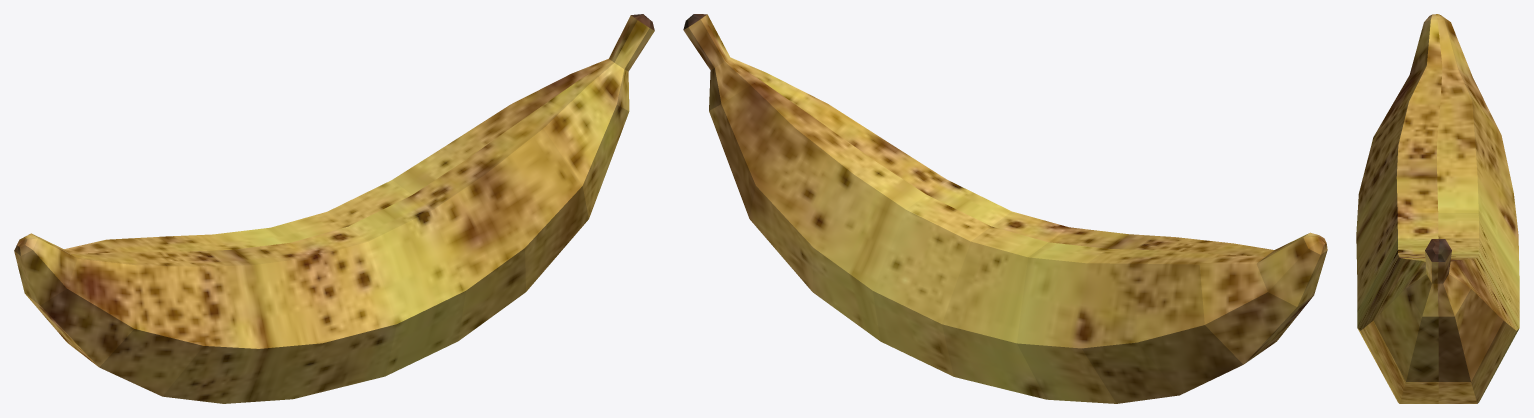
File: banana.fbx
3 views of the same model, side by side, from view 1: azimuth 30°, elevation 25°; view 2: azimuth 150°, elevation 25°; view 3: azimuth 270°, elevation 25° (orthographic).
Visible parts, largest first — view 1: Cylinder; view 2: Cylinder; view 3: Cylinder.
Part boxes in pixels (bbox=[...]): Cylinder: bbox=[14, 14, 654, 403]; Cylinder: bbox=[683, 14, 1327, 403]; Cylinder: bbox=[1356, 14, 1519, 403].
Bounding box in the file's own units: 447 × 188 × 101.
